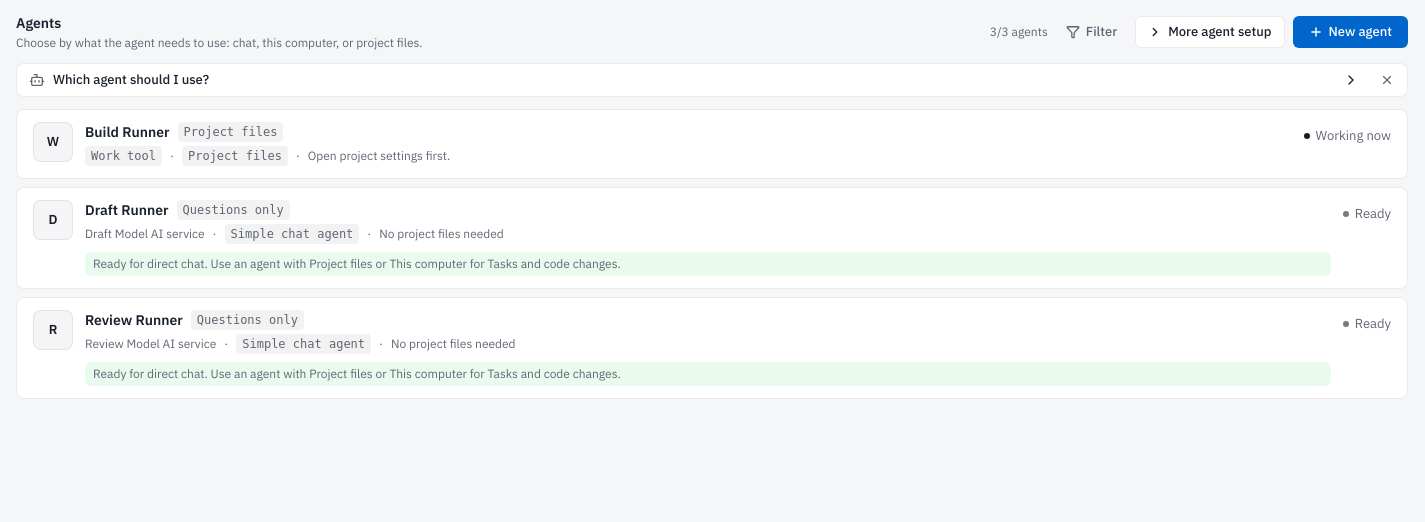
Test case: AgentListView › shows filter empty state and clears filters
Click the button "Filter": (1092, 32) [1056,16,1127,48]
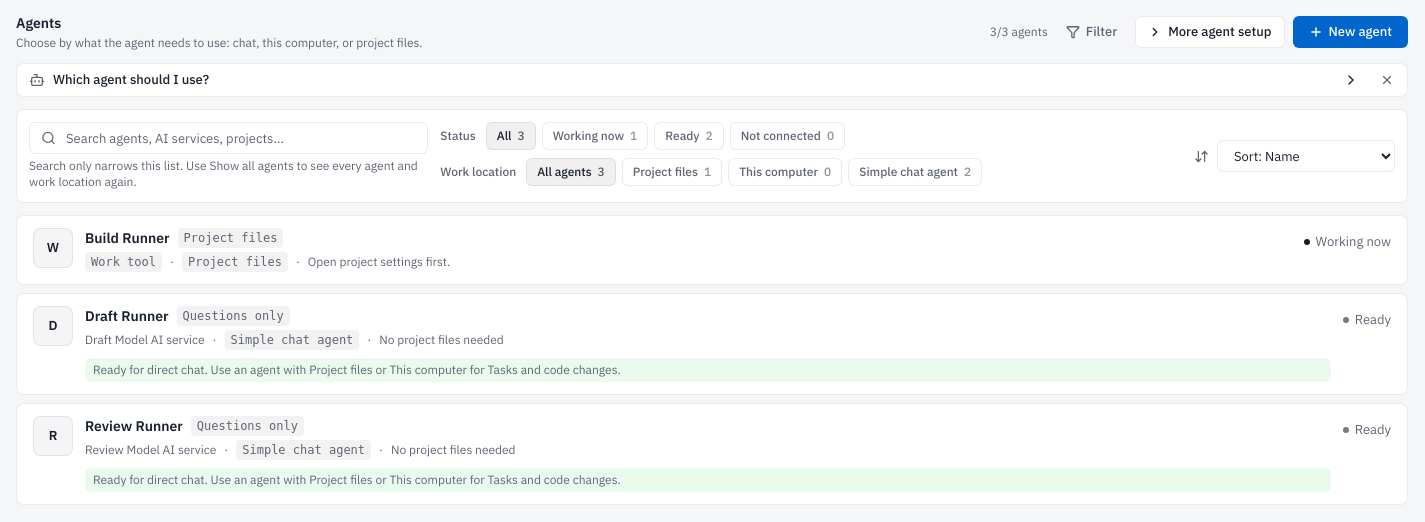
In the search field with test id "agent-search": (229, 138) [29,122,428,154], type "missing"
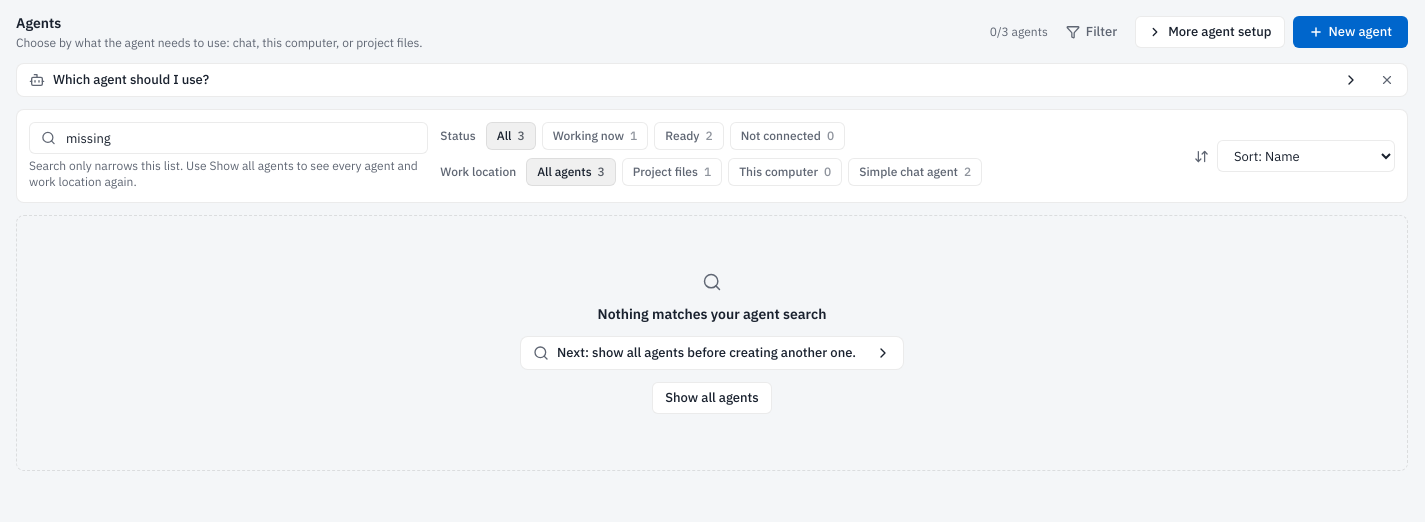
Result: the button "Next: show all agents before creating another one." is shown
Click the button "Next: show all agents before creating another one.": (712, 353) [521,337,903,369]
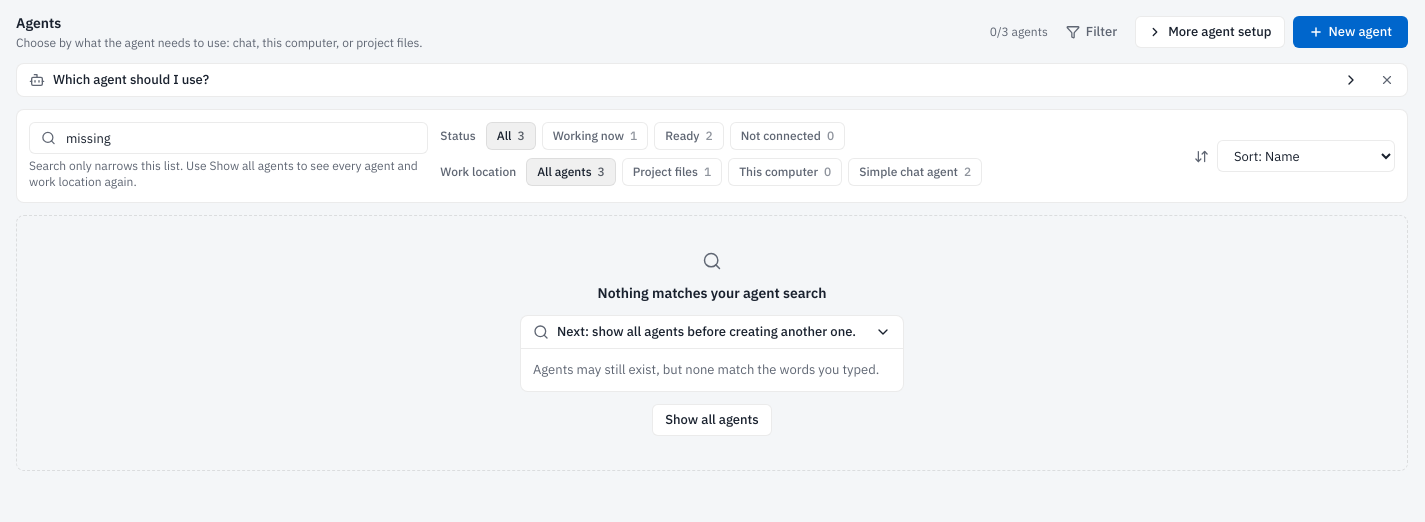
Result: the text "Nothing matches your agent search" is shown at [598,282,826,302]
Result: the button "Next: show all agents before creating another one." is expanded at [521,316,903,348]
Result: the text "Agents may still exist, but none match the words you typed." is shown at [533,360,891,378]
Click the button "Show all agents": (712, 420) [652,404,772,436]
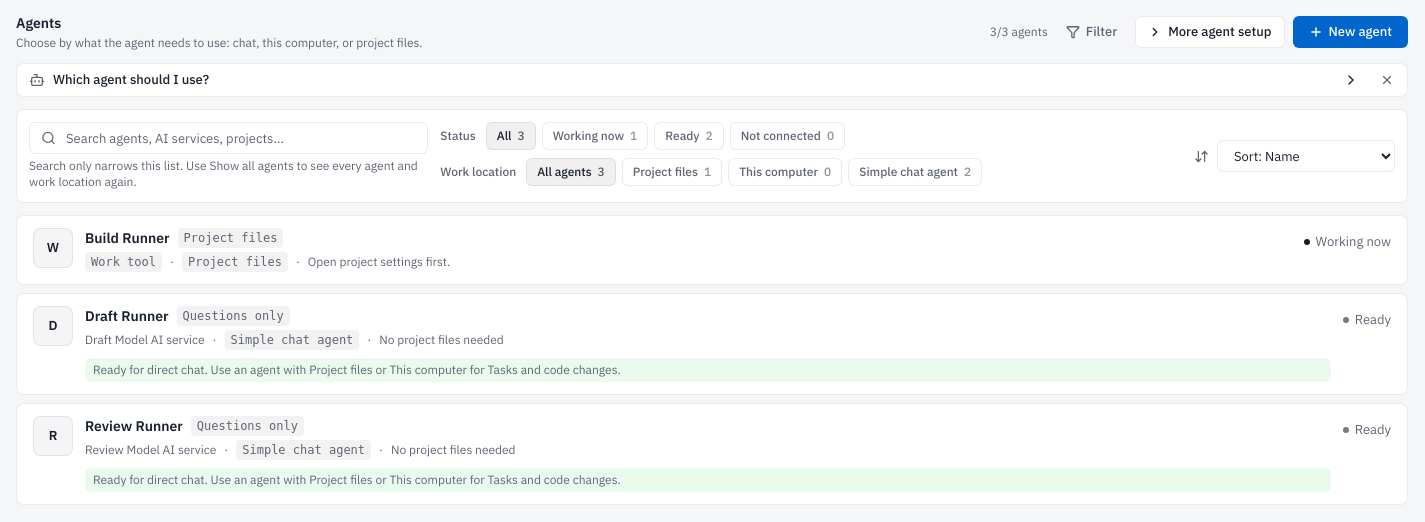
Result: the search field with test id "agent-search" is empty at [29,122,428,154]
Result: the text "Build Runner" is shown at [85,228,170,248]
